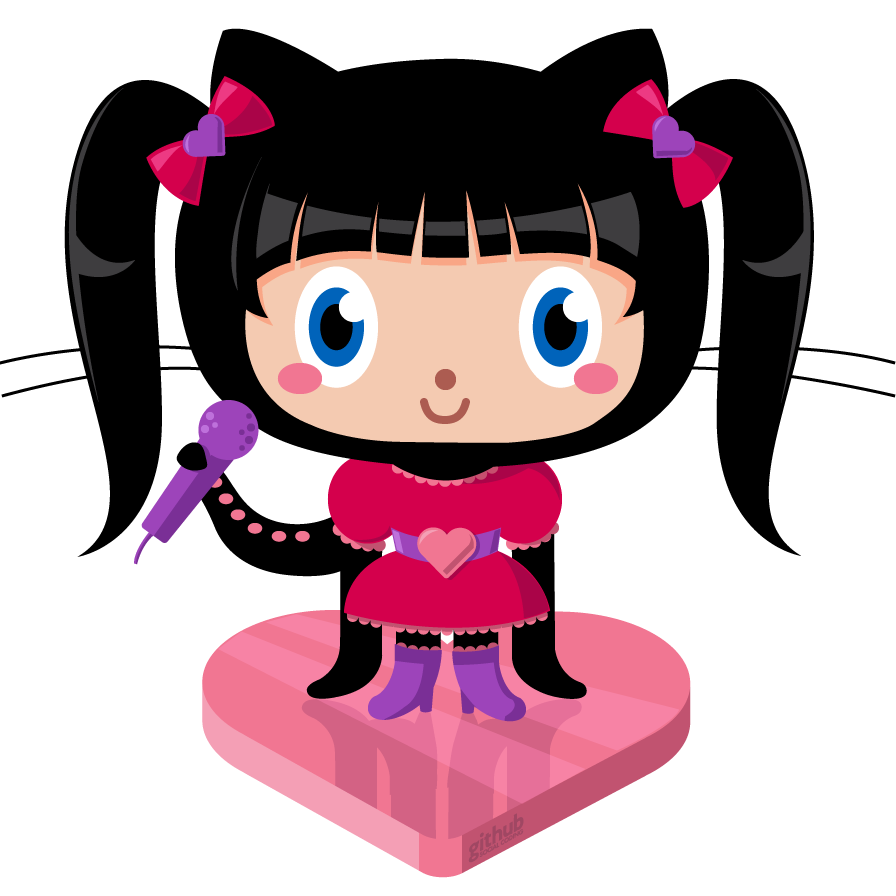Aidorucat: (63, 25, 820, 879)
